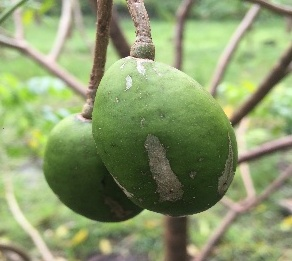Coc: (85, 47, 245, 218)
